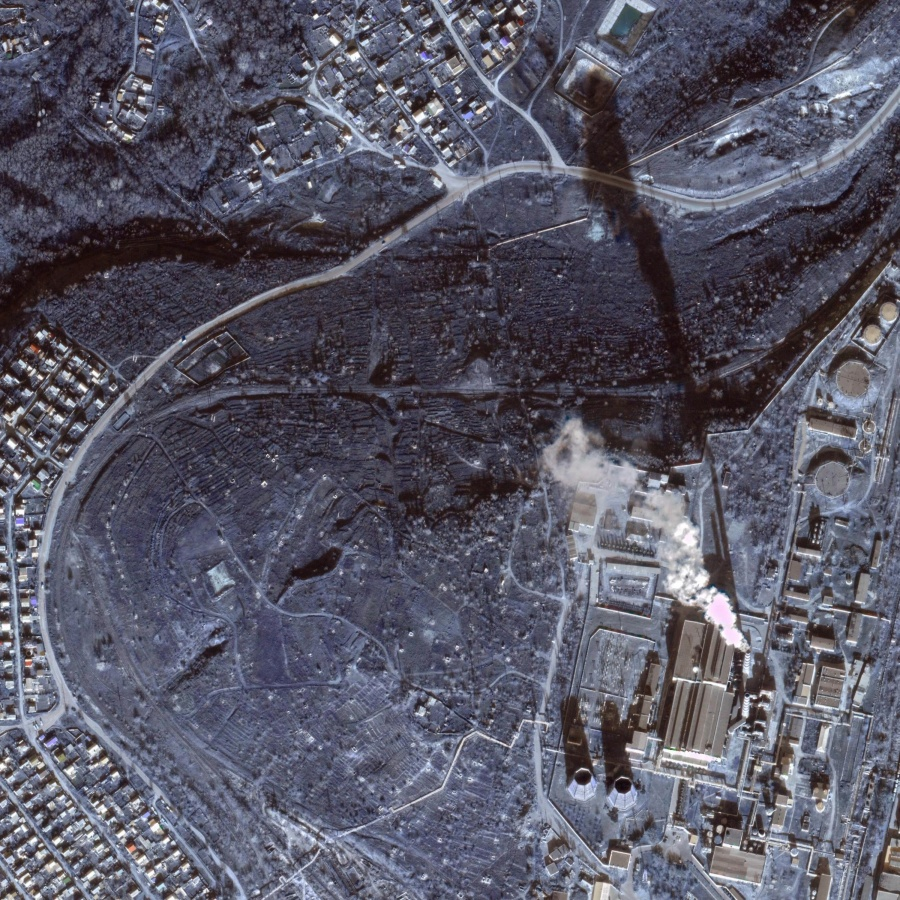PowerPlant: (554, 561, 777, 822)
